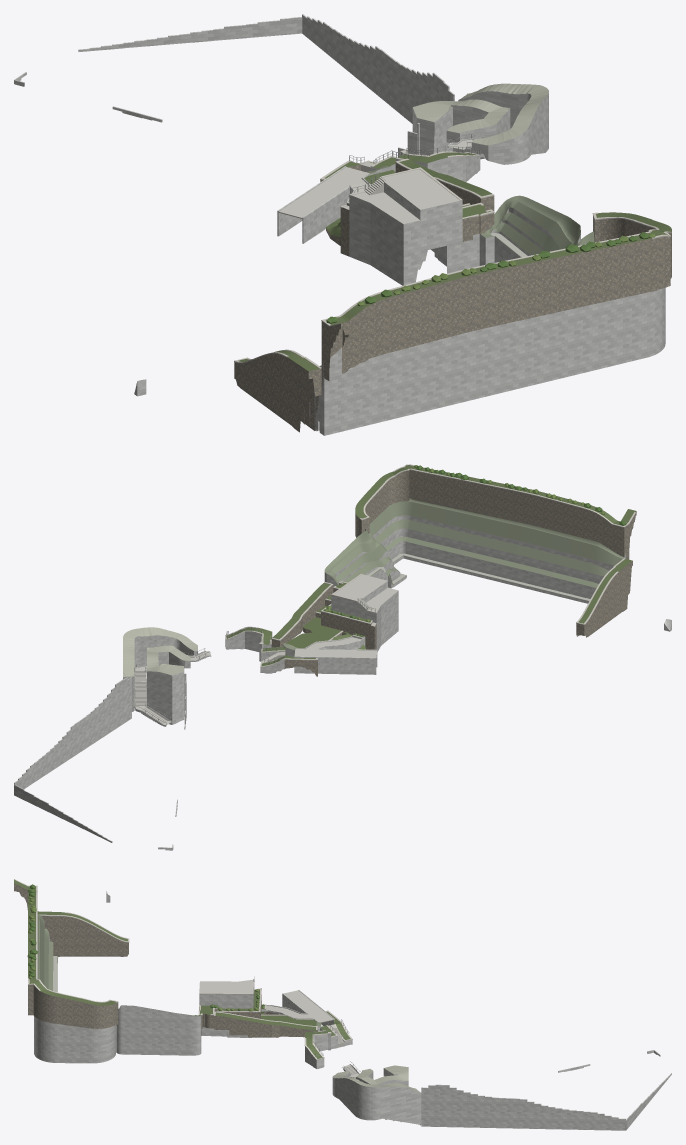
3 renders of one model, top to bottom at view 1: azimuth 30°, elevation 25°; view 2: azimuth 150°, elevation 25°; view 3: azimuth 270°, elevation 25°, orthographic. The views are drawn at different scales.
Parts seen in each view (by area): view 1: terraces__retaining_and_stairs, round10_main_seam_0_visibleclip0__plant, student__paving, terraces__wall_shrubs, round10_a_east_3_0__plant, round10_a_east_2_0__plant, round10_a_east_1_0__plant; view 2: terraces__retaining_and_stairs, round10_main_north_3_0__plant, round10_main_north_2_0__plant, round10_main_north_1_0__plant, round10_main_seam_0_visibleclip0__plant, round10_main_north_0_0__paving, round10_a_bank_visible_3_0__plant, student__paving, terraces__wall_shrubs; view 3: terraces__retaining_and_stairs, round10_main_seam_0_visibleclip0__plant, student__paving, terraces__wall_shrubs.
Boxes of the visible parts, x1=… form: terraces__retaining_and_stairs: x1=14, y1=14, x2=671, y2=432; round10_main_seam_0_visibleclip0__plant: x1=309, y1=195, x2=665, y2=435; student__paving: x1=278, y1=167, x2=368, y2=218; terraces__wall_shrubs: x1=326, y1=232, x2=655, y2=323; round10_a_east_3_0__plant: x1=508, y1=200, x2=571, y2=249; round10_a_east_2_0__plant: x1=502, y1=212, x2=559, y2=251; round10_a_east_1_0__plant: x1=492, y1=222, x2=543, y2=255; terraces__retaining_and_stairs: x1=14, y1=464, x2=636, y2=850; round10_main_north_3_0__plant: x1=369, y1=501, x2=622, y2=570; round10_main_north_2_0__plant: x1=374, y1=519, x2=608, y2=583; round10_main_north_1_0__plant: x1=385, y1=537, x2=598, y2=598; round10_main_seam_0_visibleclip0__plant: x1=324, y1=498, x2=625, y2=602; round10_main_north_0_0__paving: x1=392, y1=553, x2=590, y2=603; round10_a_bank_visible_3_0__plant: x1=282, y1=617, x2=341, y2=648; student__paving: x1=294, y1=649, x2=377, y2=658; terraces__wall_shrubs: x1=414, y1=465, x2=626, y2=525; terraces__retaining_and_stairs: x1=14, y1=879, x2=671, y2=1130; round10_main_seam_0_visibleclip0__plant: x1=34, y1=914, x2=201, y2=1063; student__paving: x1=283, y1=990, x2=334, y2=1022; terraces__wall_shrubs: x1=27, y1=884, x2=37, y2=979.
Size of the model in its own units: 122 by 37.27 by 182.
Materials: 16 (3 with a texture image).
